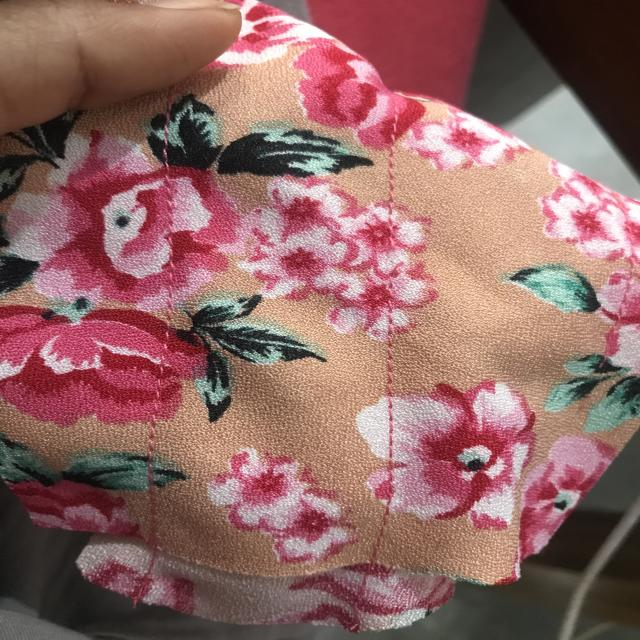broken: (368, 230, 412, 284)
good: (372, 344, 408, 458)
